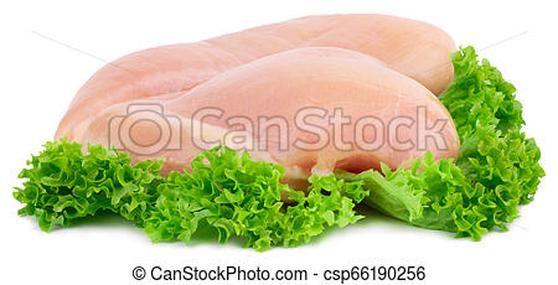chicken_fillet: (99, 47, 460, 159), (84, 17, 465, 95)
